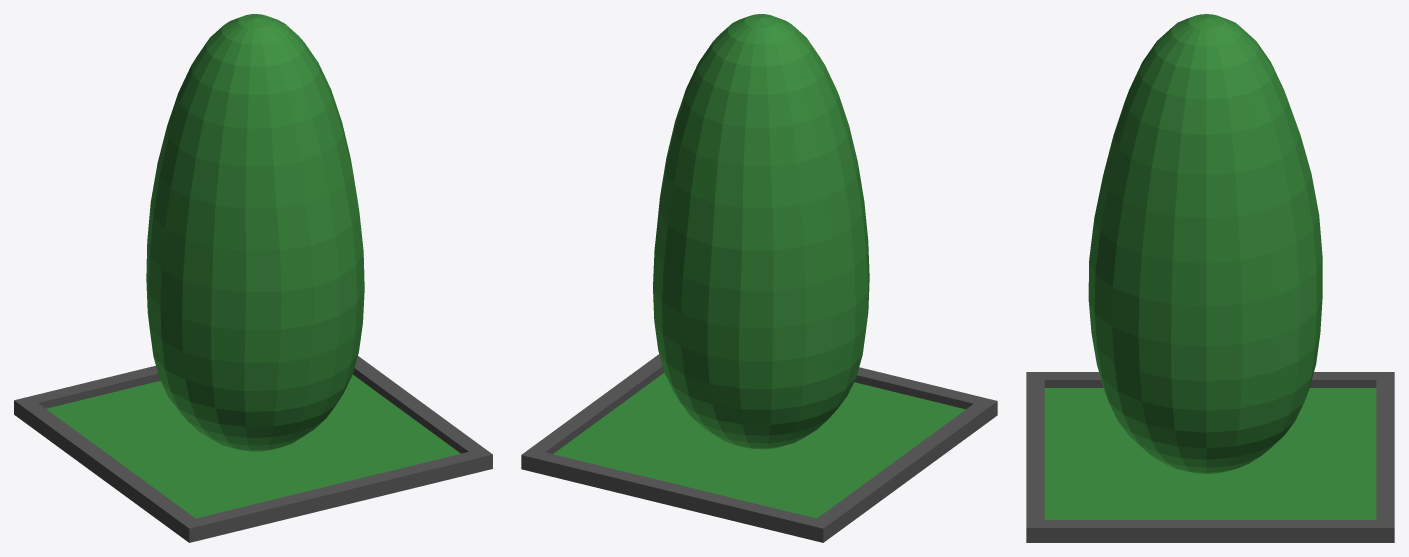
Rendered from Boom2.fbx.
3 views of the same model, side by side, from view 1: azimuth 30°, elevation 25°; view 2: azimuth 150°, elevation 25°; view 3: azimuth 270°, elevation 25° (orthographic). The views are drawn at different scales.
Parts seen in each view (by area): view 1: pSphere160; view 2: pSphere160; view 3: pSphere160.
Boxes of the visible parts, left/top/right/bottom form: pSphere160: left=14, top=14, right=492, bottom=542; pSphere160: left=521, top=14, right=997, bottom=542; pSphere160: left=1026, top=14, right=1394, bottom=542.
Size of the model in its own units: 22.11 by 29.57 by 22.11.
